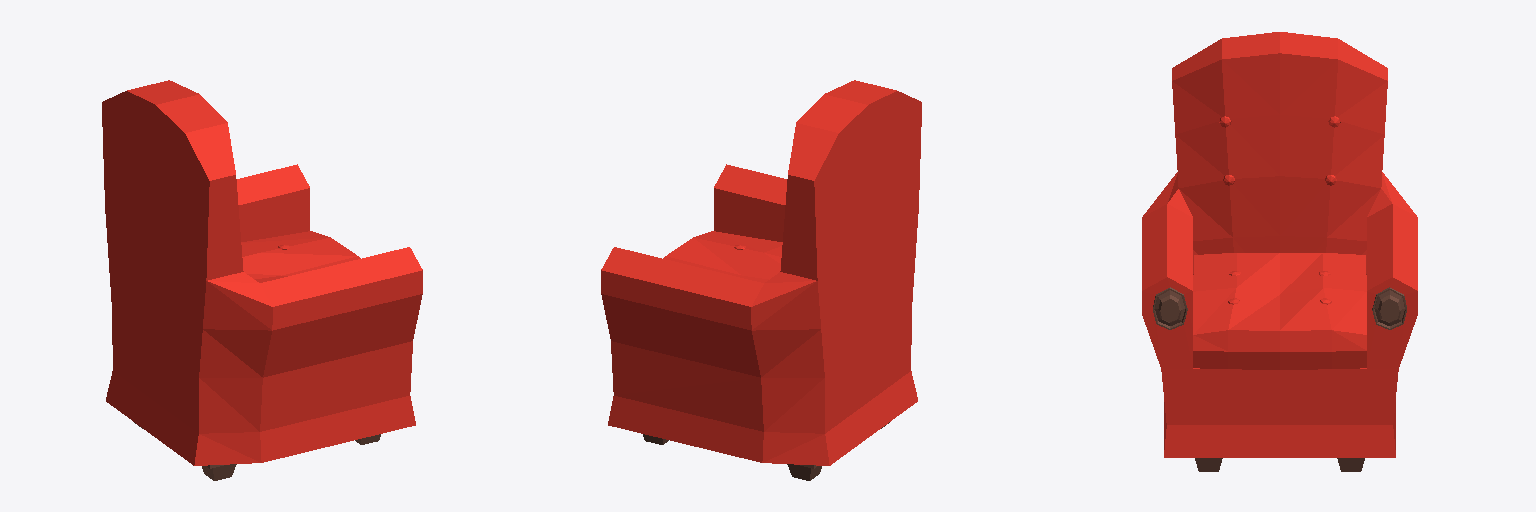
File: Armchair_01.obj
3 views of the same model, side by side, from view 1: azimuth 30°, elevation 25°; view 2: azimuth 150°, elevation 25°; view 3: azimuth 270°, elevation 25° (orthographic).
Visible parts, largest first — view 1: Armchair_Cube.025; view 2: Armchair_Cube.025; view 3: Armchair_Cube.025.
Boxes of the visible parts, <box> form: Armchair_Cube.025: <box>102,80,422,480</box>; Armchair_Cube.025: <box>601,80,921,480</box>; Armchair_Cube.025: <box>1142,32,1417,471</box>.
Size of the model in its own units: 6.32 by 9.99 by 7.14.